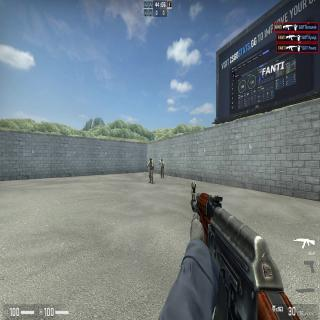CT-Body: (149, 157, 154, 185)
CT-Head: (150, 157, 152, 163)
T-Body: (160, 159, 164, 179)
T-Head: (161, 159, 163, 162)
